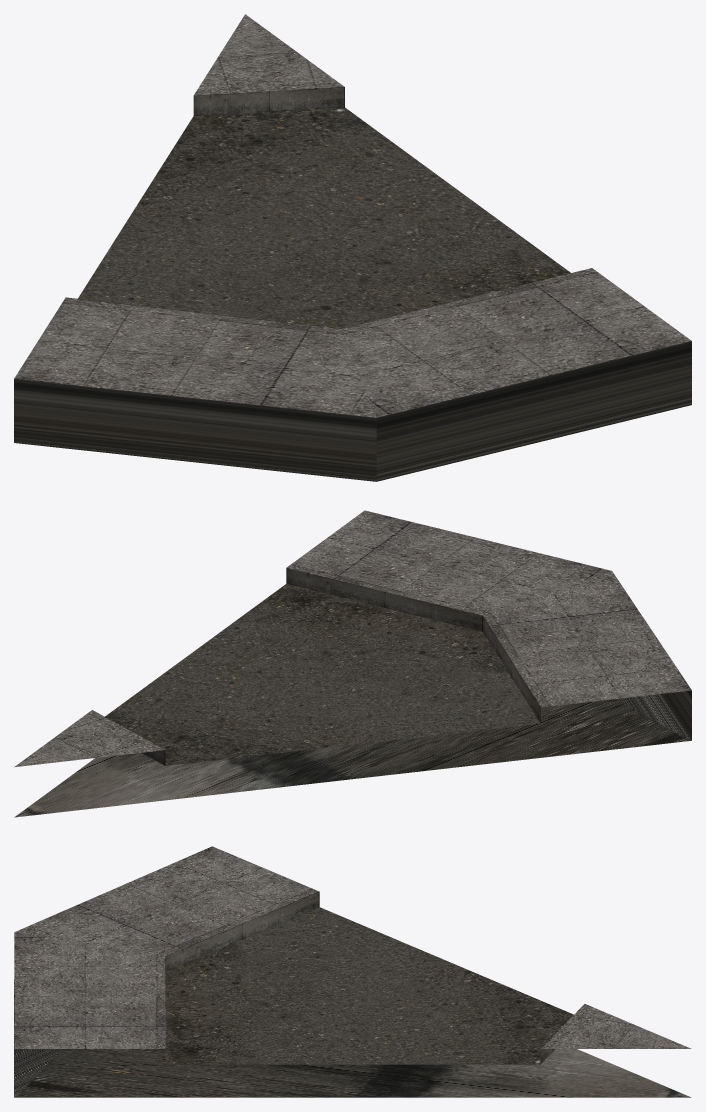
Rendered from RoadCurve02.fbx.
3 views of the same model, one above another, from view 1: azimuth 30°, elevation 25°; view 2: azimuth 150°, elevation 25°; view 3: azimuth 270°, elevation 25° (orthographic). The views are drawn at different scales.
Visible parts, largest first — view 1: Curve.001; view 2: Curve.001; view 3: Curve.001.
Boxes of the visible parts, <box> form: Curve.001: <box>14,14,691,481</box>; Curve.001: <box>14,510,691,817</box>; Curve.001: <box>14,846,691,1097</box>.
Size of the model in its own units: 336 by 37.59 by 475.
Materials: 2 (2 with a texture image).
